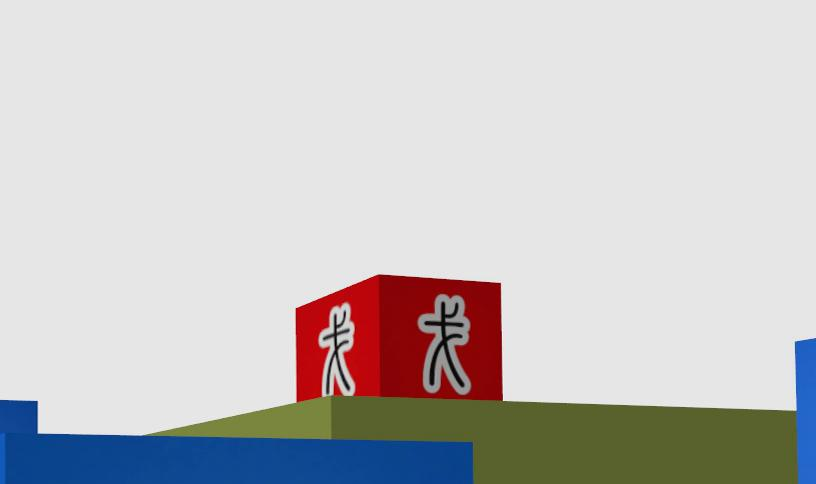KFS_FAKE: (295, 275, 503, 400), (418, 294, 471, 395), (319, 303, 354, 394)
KFS_REAL: (0, 434, 471, 484), (796, 338, 815, 484), (0, 401, 36, 433)
